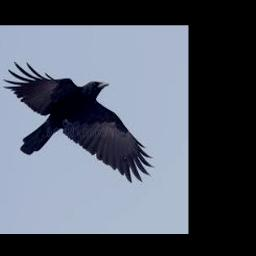Crow: (2, 61, 152, 181)
